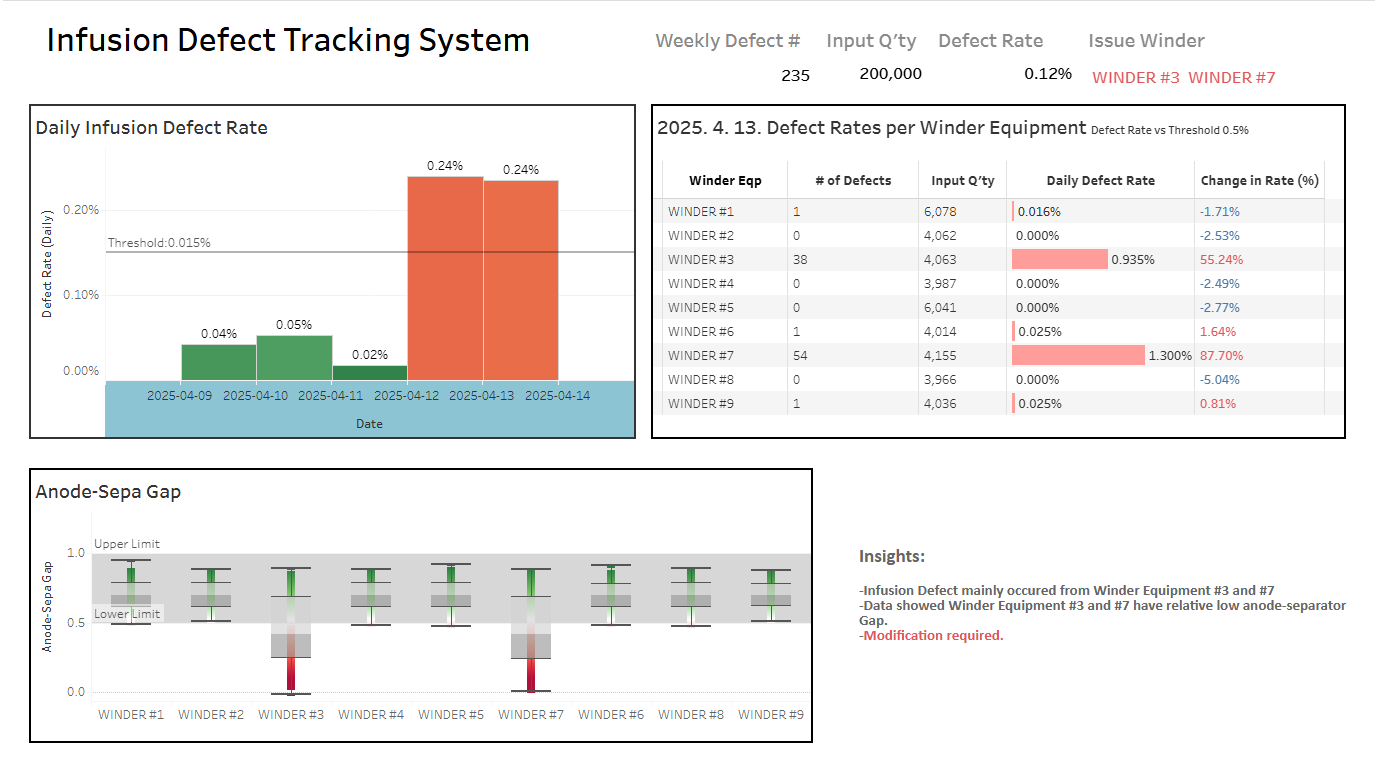

The page's visual inventory and layout, read from the dashboard file:
{"tool":"tableau","page":{"name":"CEF Infusion Defect Tracking Dashbaord","canvas":[1366,768],"ordinal":0},"visuals":[{"type":"title","box":[8,8,1350,41]},{"type":"filter","title":"Daily Infusion Defect Rate","param":"[federated.0kzp9x90tqvfn612ygm4z08t7fah].[none:wk_end_dtms:qk]","box":[1018,11,336,45]},{"type":"worksheet","title":"Daily Infusion Defect Rate","mark":"Bar","rows":["Calculation_1129840624440102913"],"cols":["wk_end_dtms"],"box":[16,72,600,300]},{"type":"worksheet","title":"Defect Rates per Winder Equipment","mark":"Automatic","rows":["eqp_nm (wnd_data.csv)"],"box":[670,72,600,300]},{"type":"text","box":[16,387,570,170]},{"type":"worksheet","title":"Gap data per Winder Equipment","mark":"Circle","rows":["isp_nvl_ctn"],"cols":["eqp_nm (wnd_data.csv)"],"box":[616,400,720,300]}]}

Visuals, with their boxes in screenshot pixels (x1, y1, x2, y2), scaled from the page's 1366x768 canvas onto the 1375x767 screenshot:
title: (left=8, top=8, right=1367, bottom=49)
"Daily Infusion Defect Rate" filter: (left=1025, top=11, right=1363, bottom=56)
"Daily Infusion Defect Rate" worksheet (Bar marks): (left=16, top=72, right=620, bottom=372)
"Defect Rates per Winder Equipment" worksheet: (left=674, top=72, right=1278, bottom=372)
text: (left=16, top=386, right=590, bottom=556)
"Gap data per Winder Equipment" worksheet (Circle marks): (left=620, top=399, right=1345, bottom=699)
